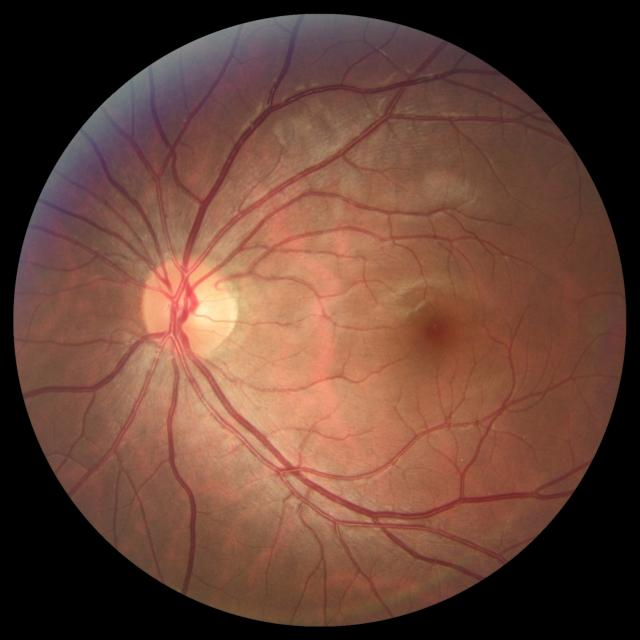OC: (175, 287, 213, 329)
OD: (142, 256, 235, 356)
